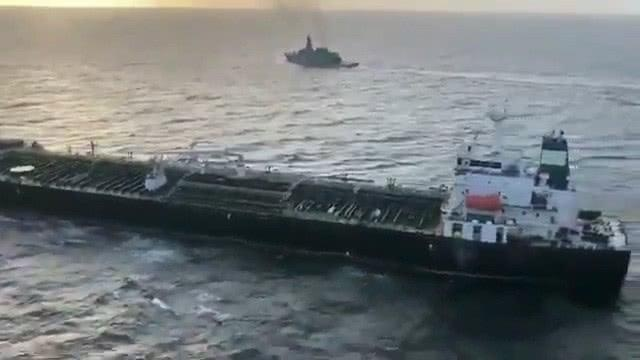Cargoship: (1, 123, 634, 299)
